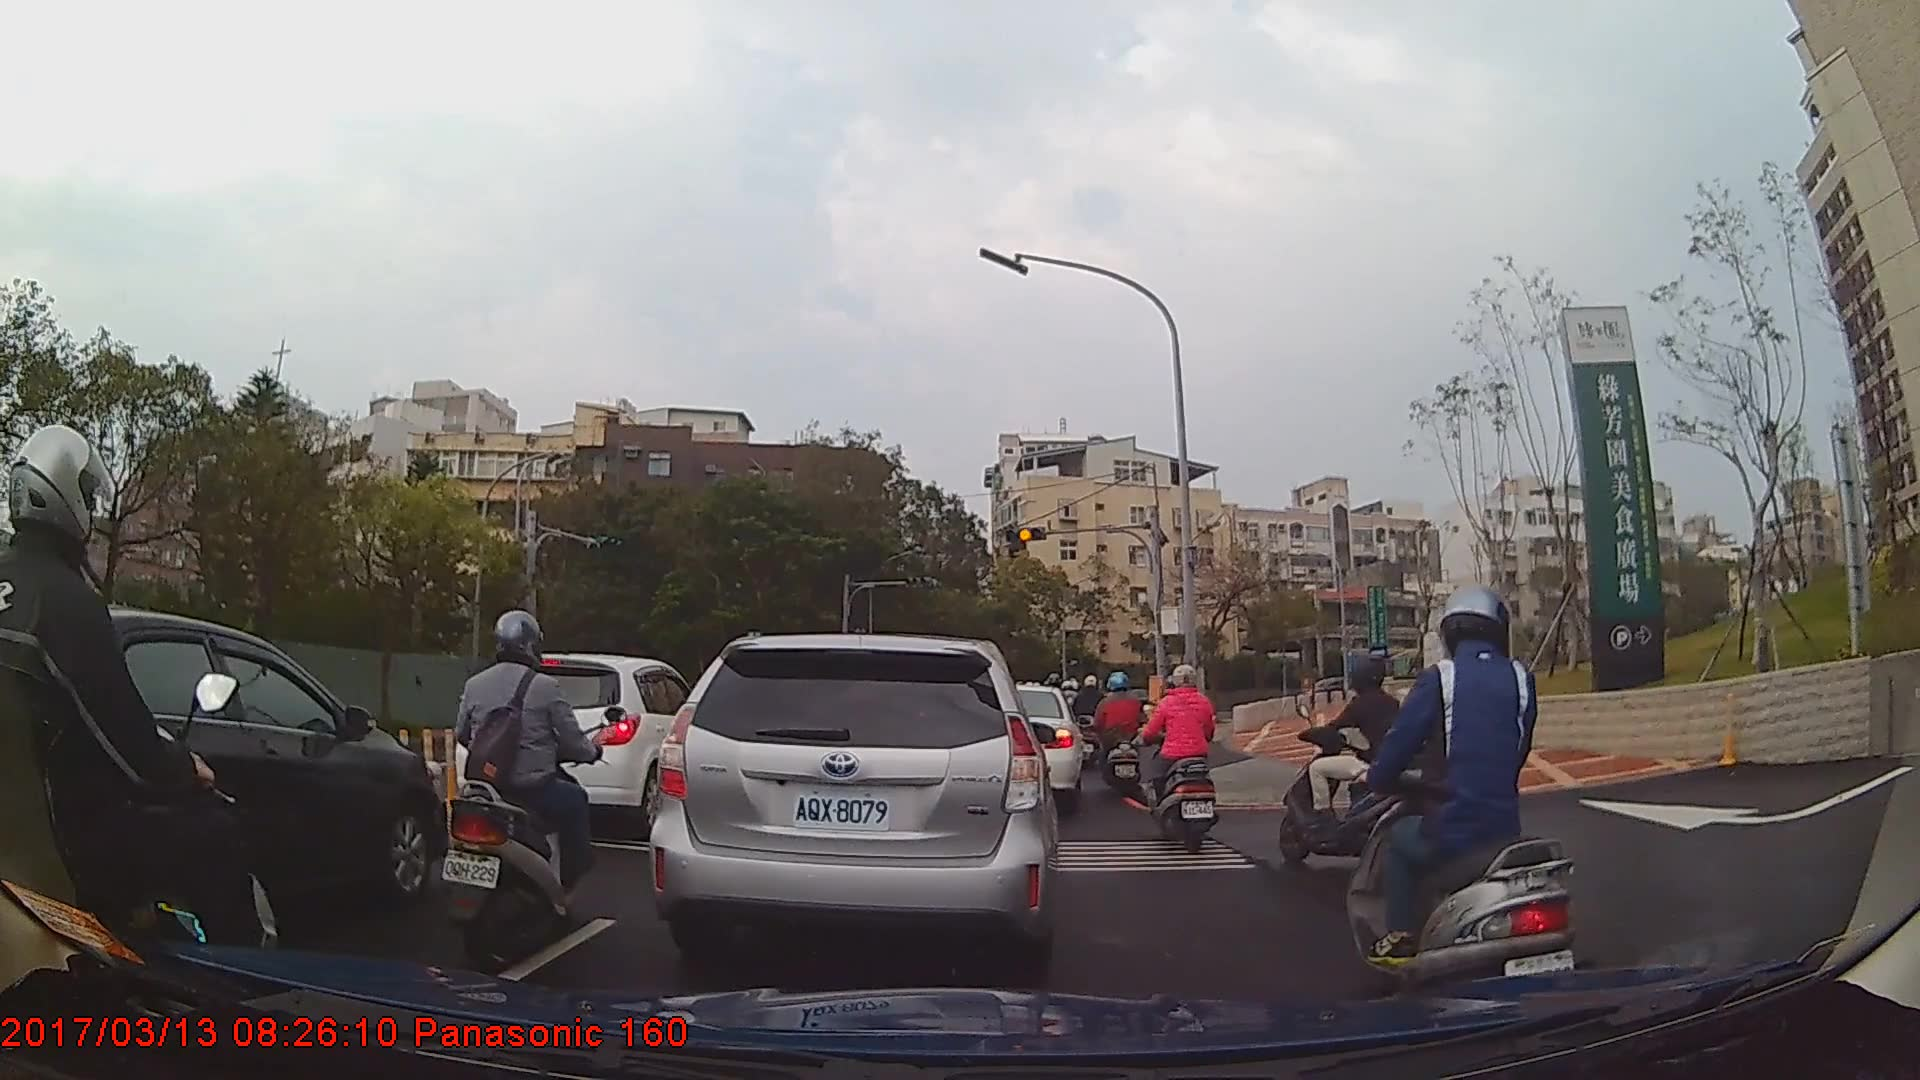pedestrian: (466, 668, 487, 727)
rider: (1, 428, 286, 1078), (1343, 585, 1588, 1032), (438, 610, 611, 957), (1277, 655, 1463, 869), (1149, 662, 1219, 857), (1091, 668, 1148, 798), (1075, 673, 1108, 771)
vehicle: (2, 596, 447, 938), (645, 630, 1059, 986), (454, 651, 716, 837), (971, 684, 1083, 807)
